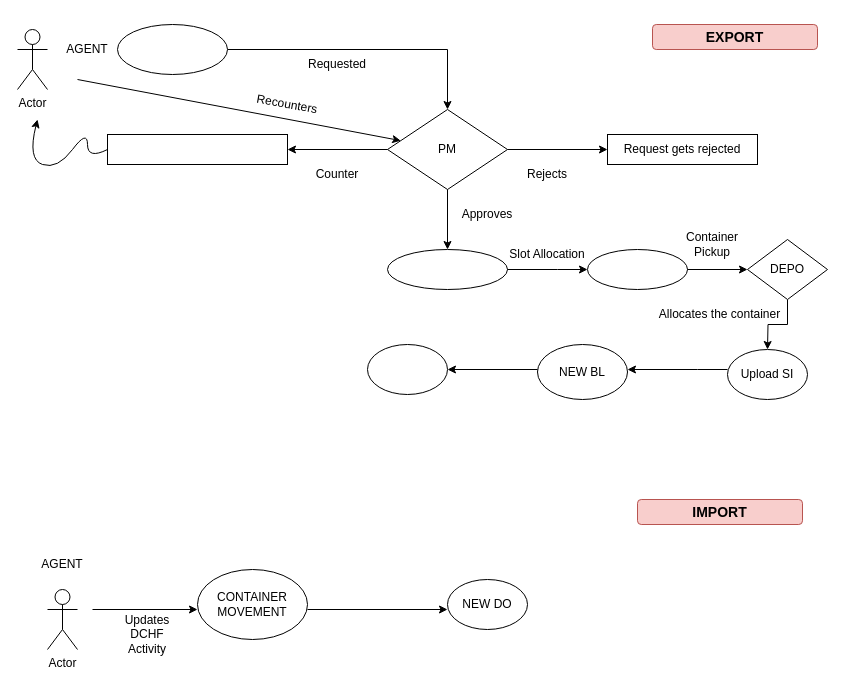
Some shapes in this 845 by 688 pixel diagram are drawn without their labels. Each missing label, with the centre of its shape:
BOOKING: pixel 447 269
CRO: pixel 637 269
MANIFEST: pixel 407 369
NEW SRR: pixel 172 49
Request goes to Agent for Recounter: pixel 197 149
